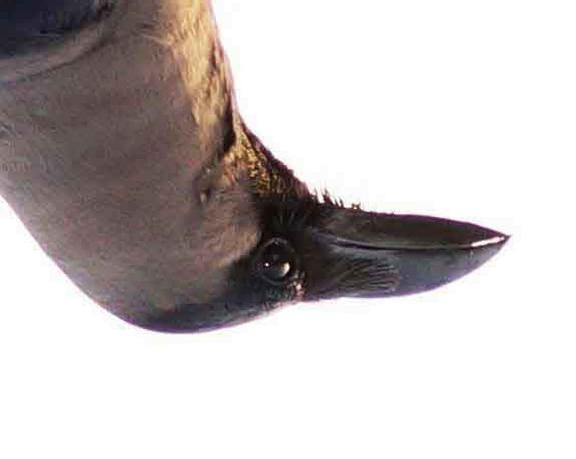crow: (1, 1, 513, 348)
